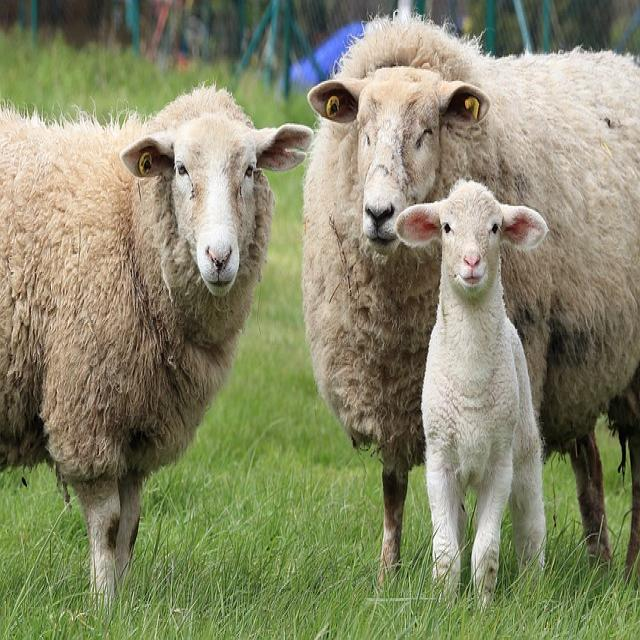goat: (304, 19, 640, 570), (0, 86, 312, 598), (395, 180, 548, 604)
